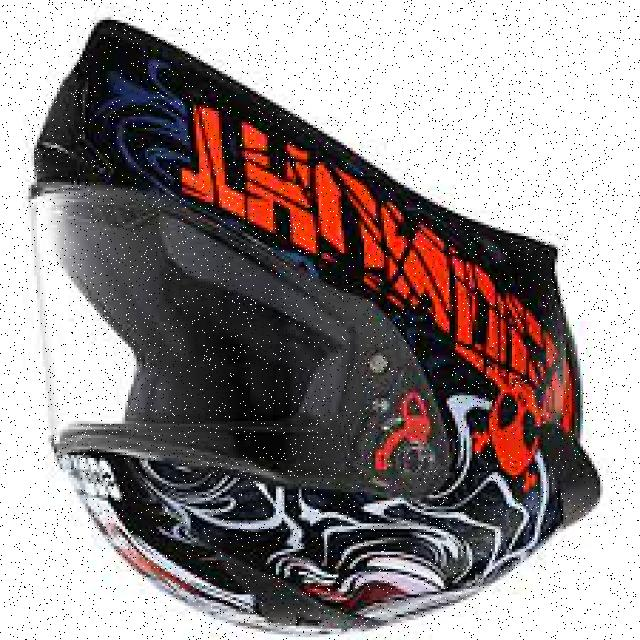Helmet: (9, 24, 600, 637)
